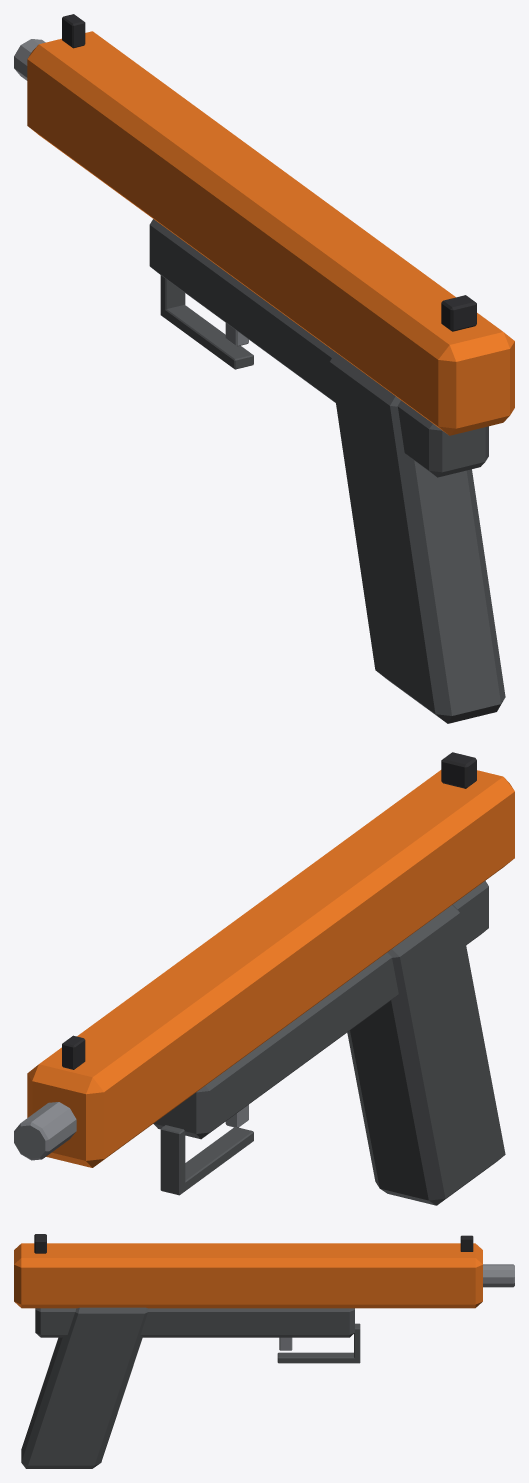
File: pistol.glb
The picture shows the model from 3 angles, top to bottom: view 1: azimuth 30°, elevation 25°; view 2: azimuth 150°, elevation 25°; view 3: azimuth 270°, elevation 25°; orthographic projection. The views are drawn at different scales.
Parts seen in each view (by area): view 1: pistol; view 2: pistol; view 3: pistol.
Boxes of the visible parts, <box> form: pistol: <box>14,14,514,723</box>; pistol: <box>14,752,514,1205</box>; pistol: <box>14,1234,514,1468</box>.
Bounding box in the file's own units: 0.045 × 0.228 × 0.46.
